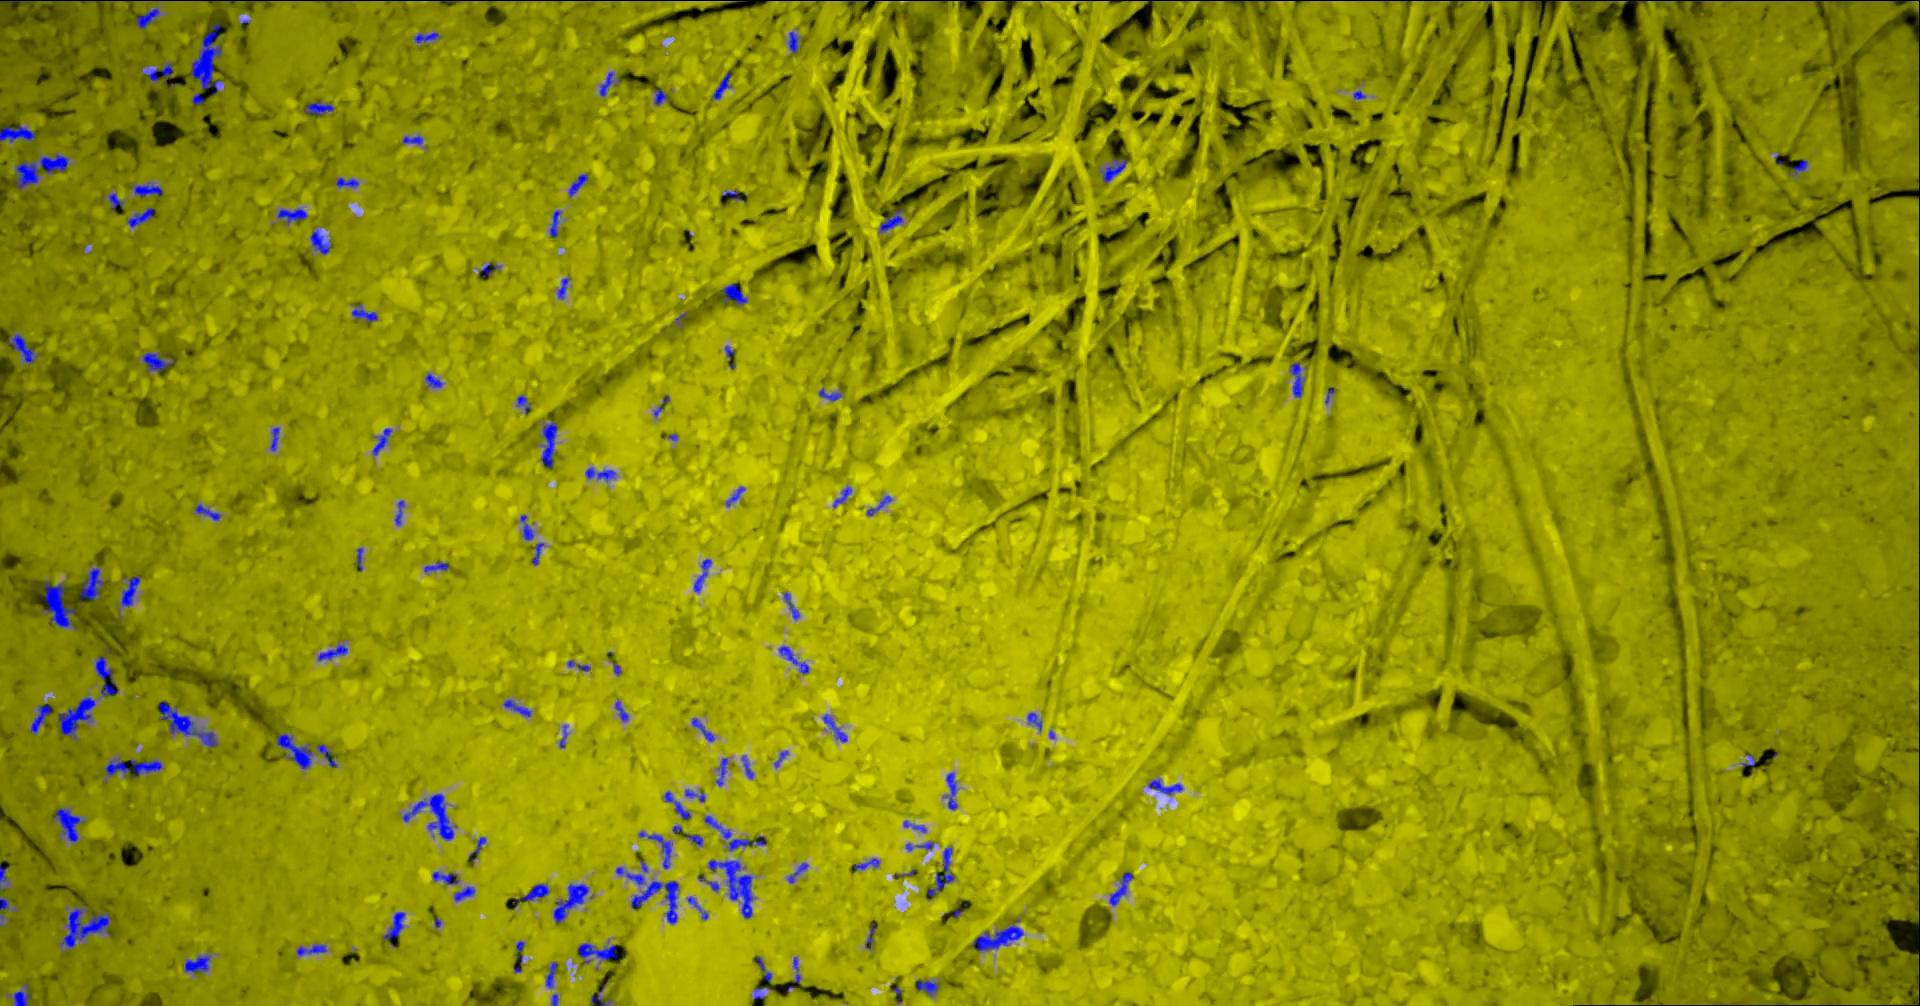ant: (709, 859, 754, 918), (160, 701, 218, 747), (404, 793, 457, 840), (192, 23, 223, 94), (61, 903, 112, 948), (705, 815, 767, 850), (632, 880, 681, 923), (17, 152, 70, 188), (43, 580, 81, 629), (58, 696, 97, 739), (555, 883, 590, 922), (974, 923, 1025, 950), (928, 847, 956, 895), (277, 733, 312, 768), (640, 831, 674, 868), (105, 758, 164, 779), (55, 807, 88, 842), (97, 655, 119, 697), (9, 334, 41, 363), (780, 645, 810, 673), (514, 883, 551, 906), (383, 911, 406, 948), (145, 62, 179, 86), (617, 860, 649, 885), (542, 419, 559, 467), (81, 567, 105, 600), (1110, 871, 1134, 904), (580, 942, 618, 963), (665, 791, 692, 819), (32, 702, 53, 734), (824, 713, 848, 741), (1101, 159, 1129, 182), (1, 124, 37, 142), (695, 558, 712, 592), (143, 352, 175, 371), (122, 575, 141, 606), (712, 71, 733, 99), (1149, 779, 1183, 795), (1, 862, 10, 925), (881, 208, 905, 231), (693, 716, 716, 741), (128, 207, 155, 227), (723, 283, 749, 304), (137, 8, 161, 29), (311, 229, 331, 254), (469, 836, 488, 862), (185, 954, 212, 973), (319, 644, 349, 661), (1291, 362, 1305, 398), (375, 427, 392, 455), (601, 71, 621, 95), (317, 743, 338, 767), (305, 100, 337, 116), (279, 207, 309, 224), (505, 699, 532, 716), (869, 495, 893, 514), (690, 895, 709, 920), (353, 304, 378, 321), (585, 467, 617, 481), (785, 592, 801, 619), (570, 173, 589, 196), (947, 772, 959, 809), (789, 862, 810, 882), (196, 504, 222, 520), (698, 873, 721, 890), (757, 956, 773, 981), (14, 983, 32, 1005), (135, 183, 164, 196), (298, 942, 328, 955), (836, 486, 853, 507), (728, 486, 745, 506), (433, 871, 460, 884), (717, 757, 729, 786), (918, 979, 940, 995), (522, 514, 535, 540), (516, 940, 526, 972), (789, 30, 803, 53), (551, 210, 563, 238), (820, 387, 843, 401), (853, 857, 881, 869), (743, 754, 756, 779), (616, 700, 630, 721), (455, 887, 476, 901), (483, 262, 502, 277), (547, 962, 559, 987), (686, 788, 706, 801), (592, 991, 612, 1005), (559, 277, 571, 298), (415, 32, 442, 42), (425, 373, 444, 387), (518, 394, 532, 413), (533, 542, 545, 565), (425, 561, 451, 572), (1794, 158, 1810, 174), (655, 88, 669, 105), (110, 192, 124, 210), (1029, 713, 1043, 730), (907, 841, 935, 850), (905, 821, 927, 832), (337, 177, 361, 187), (396, 500, 406, 525), (794, 956, 803, 983), (726, 345, 737, 368), (867, 925, 877, 948), (687, 833, 703, 846), (723, 191, 745, 199), (272, 427, 281, 450), (404, 135, 424, 144), (358, 547, 364, 572), (193, 91, 204, 104), (1919, 845, 1920, 909)
